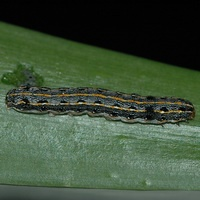insect: (1, 64, 194, 124), (5, 86, 194, 124)
